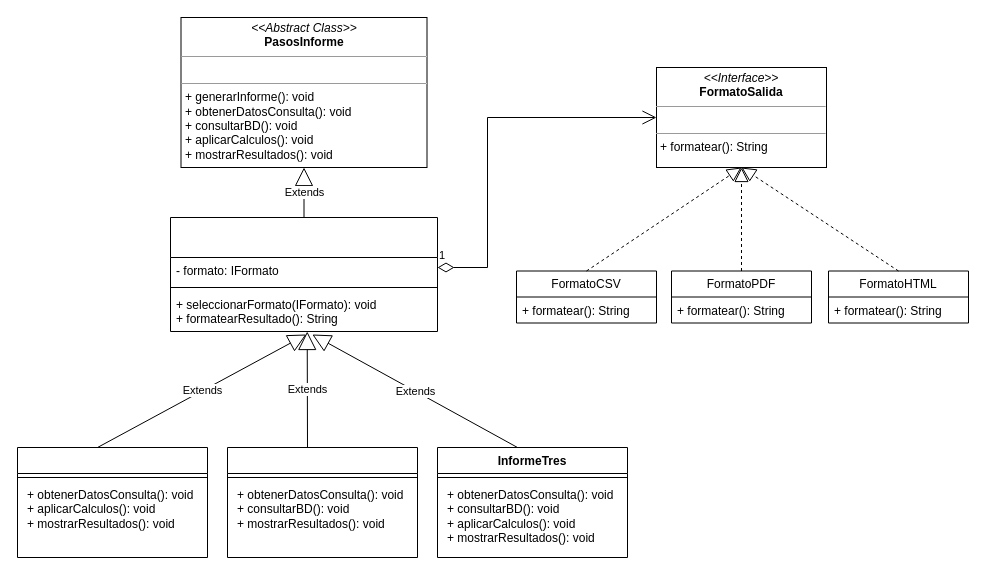
This 986x578 diagram has some shape labels left out. The box of each missing label's shape, as (x1, y1, x2, y2) in pixels:
<<Abstract Class>> Informe: (170, 216, 438, 332)
InformeDos: (226, 446, 418, 558)
InformeUno: (16, 446, 208, 558)
